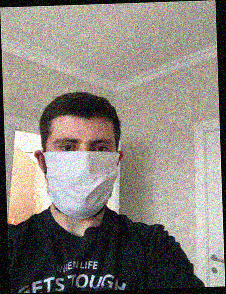with_mask: (44, 128, 119, 219)
